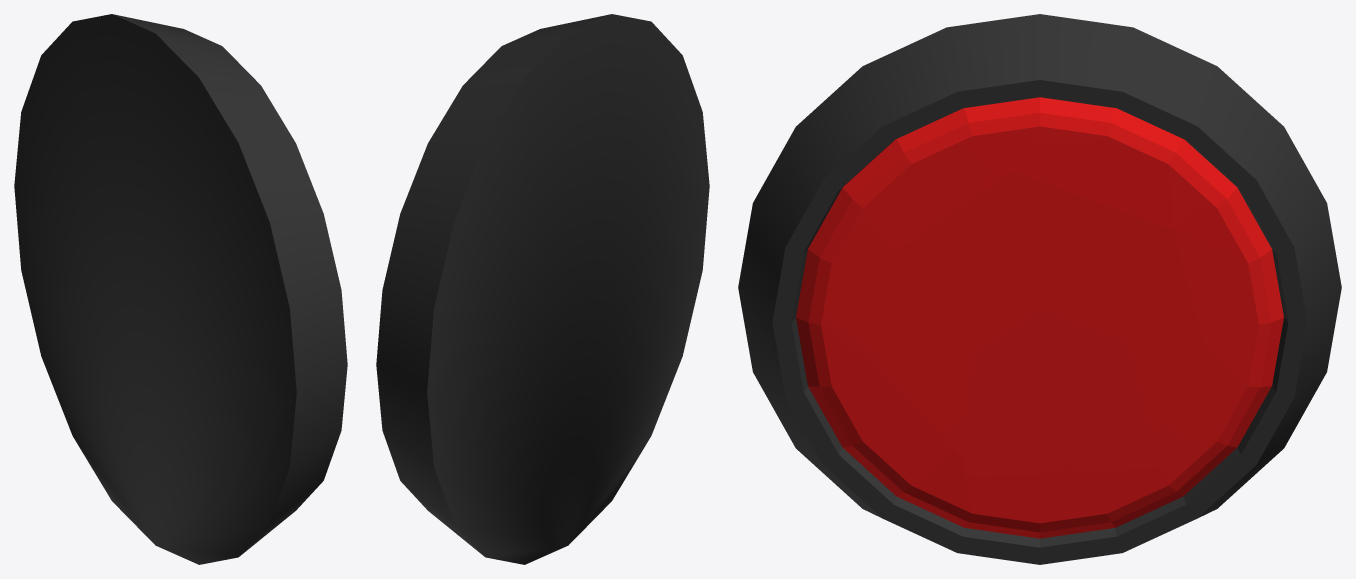
File: untitl65ed.fbx
3 renders of one model, left to right at view 1: azimuth 30°, elevation 25°; view 2: azimuth 150°, elevation 25°; view 3: azimuth 270°, elevation 25°, orthographic. The views are drawn at different scales.
Parts seen in each view (by area): view 1: pCylinder3; view 2: pCylinder3; view 3: pCylinder3.
Boxes of the visible parts, x1,y1,x2,y2 form: pCylinder3: (14,14,347,564); pCylinder3: (376,14,709,564); pCylinder3: (738,14,1341,564).
Bounding box in the file's own units: 0.1156 × 0.7745 × 0.7745.
